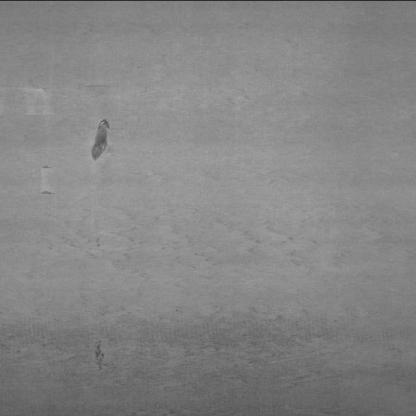rolled_pit: (75, 113, 128, 168), (32, 162, 56, 207)
